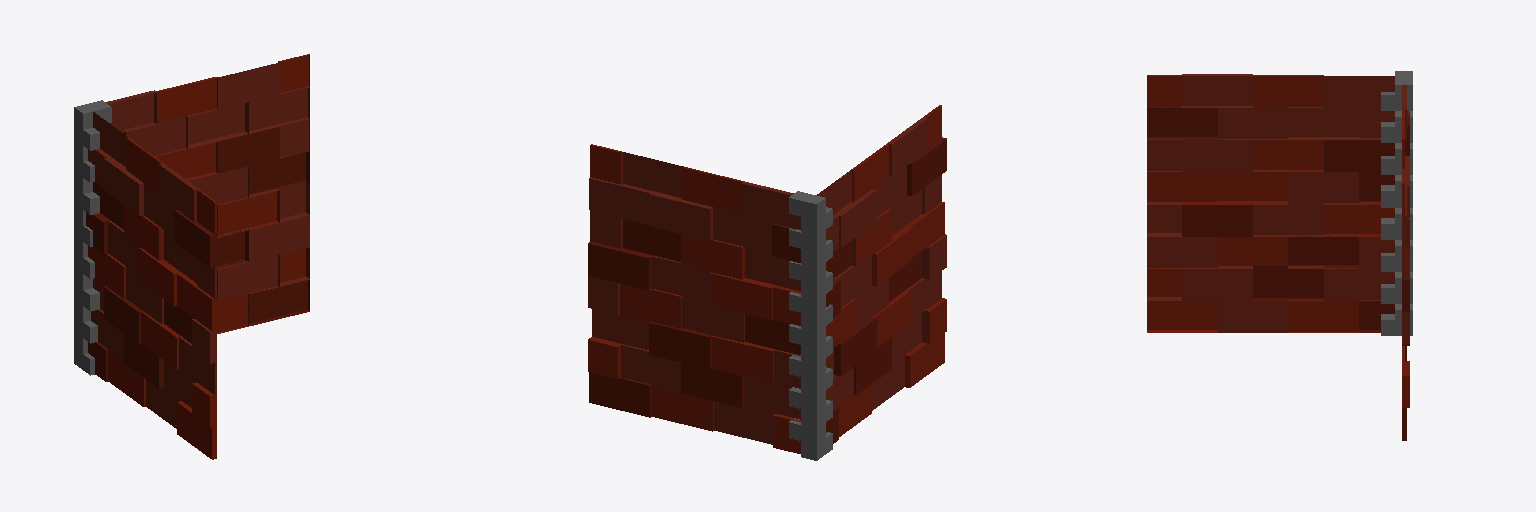
File: Outer_Corner_Wall.obj
3 renders of one model, left to right at view 1: azimuth 30°, elevation 25°; view 2: azimuth 150°, elevation 25°; view 3: azimuth 270°, elevation 25°, orthographic.
Parts seen in each view (by area): view 1: Outer_Corner_Wall; view 2: Outer_Corner_Wall; view 3: Outer_Corner_Wall.
Boxes of the visible parts, box(x1,y1,x2,y2) form: Outer_Corner_Wall: box(74, 54, 309, 459); Outer_Corner_Wall: box(588, 105, 946, 460); Outer_Corner_Wall: box(1147, 71, 1412, 440).
Bounding box in the file's own units: 0.94 × 1 × 0.94.